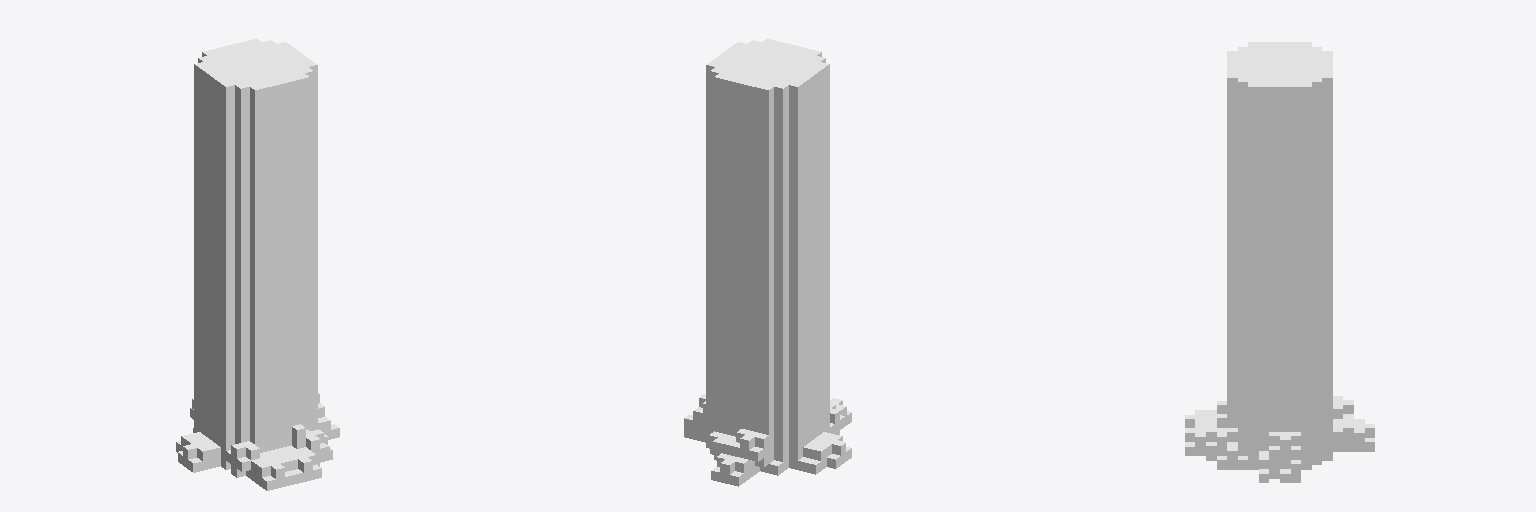
The model's file is tree1-1.obj.
The picture shows the model from 3 angles: view 1: azimuth 30°, elevation 25°; view 2: azimuth 150°, elevation 25°; view 3: azimuth 270°, elevation 25°; orthographic projection.
Parts seen in each view (by area): view 1: object 1; view 2: object 1; view 3: object 1.
Boxes of the visible parts, box(x1,y1,x2,y2) form: object 1: box(176, 39, 339, 490); object 1: box(684, 39, 851, 486); object 1: box(1185, 42, 1374, 482).
Size of the model in its own units: 1.6 by 4 by 1.8.